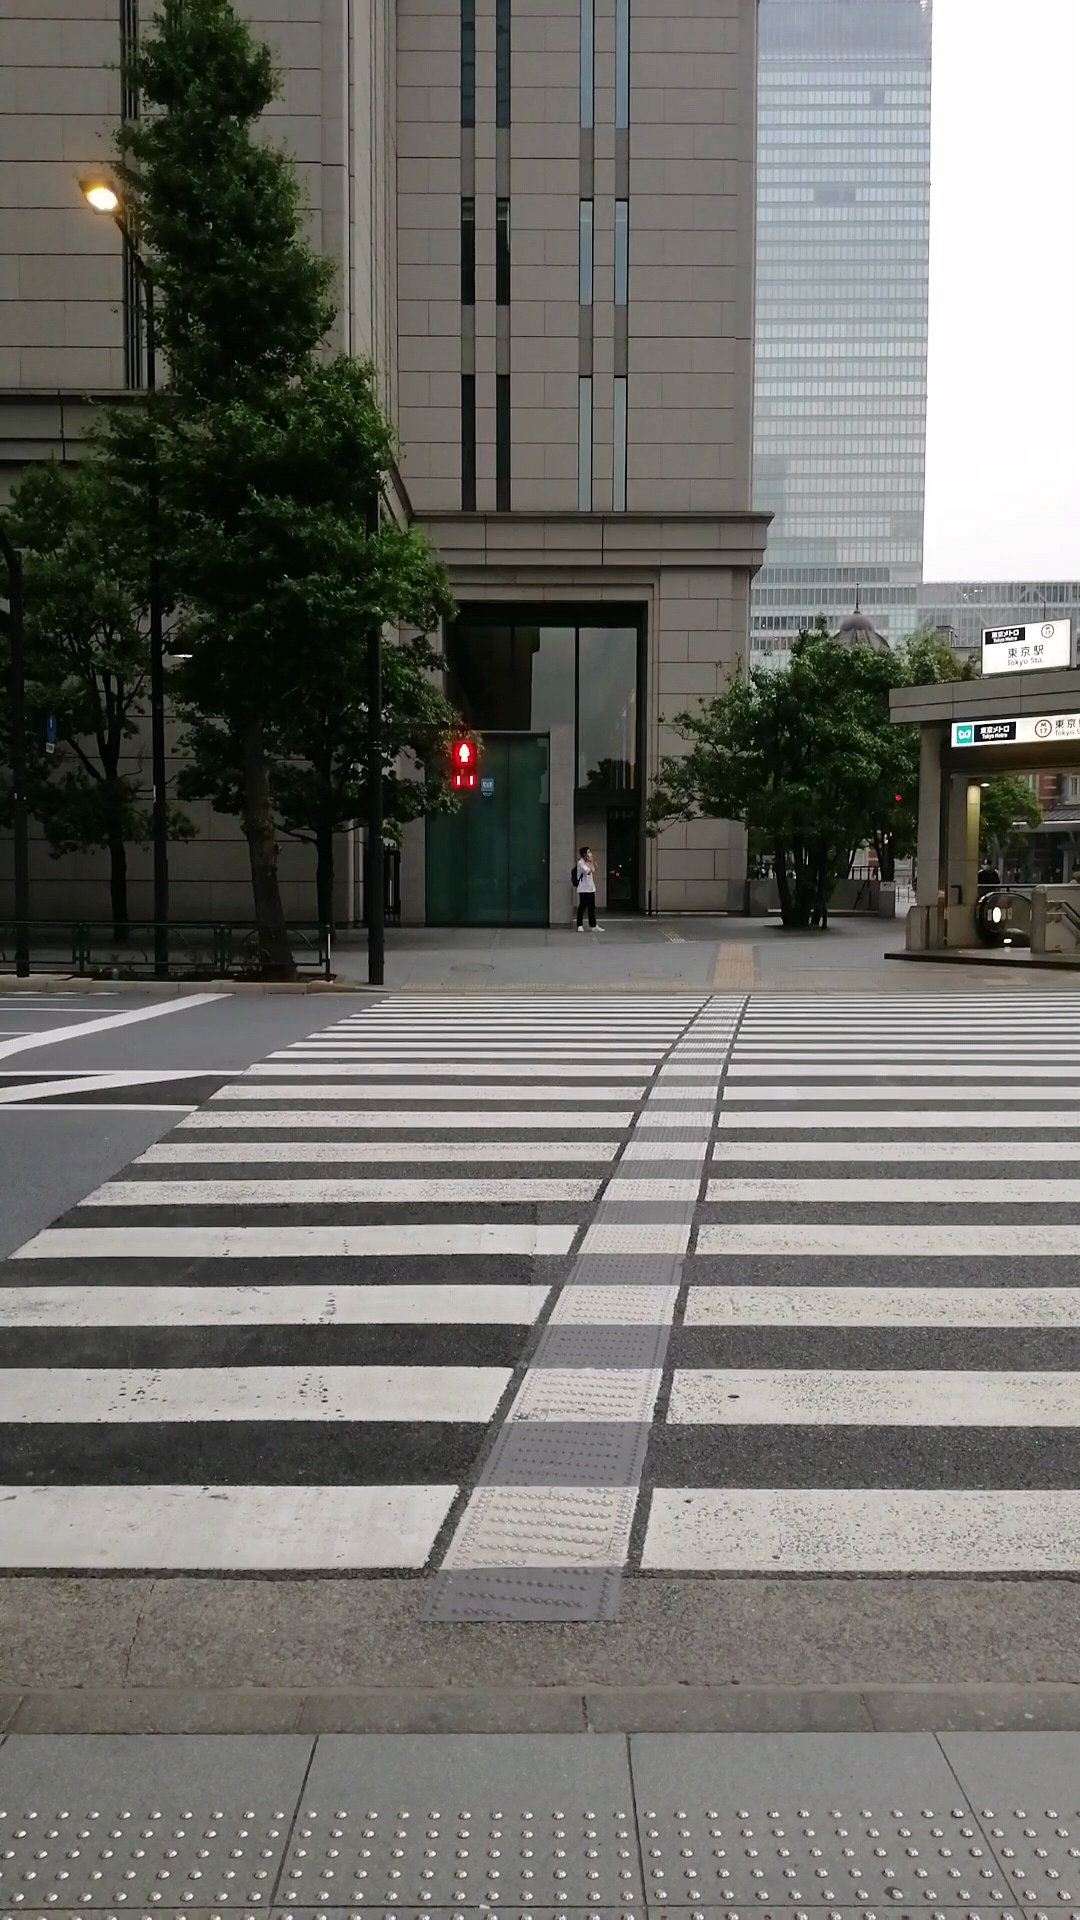red: (448, 736, 480, 795)
